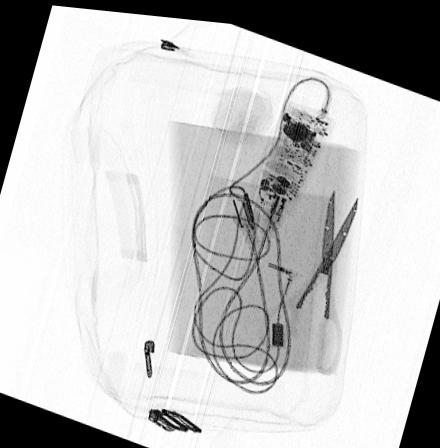Scissors: (263, 180, 359, 370)
